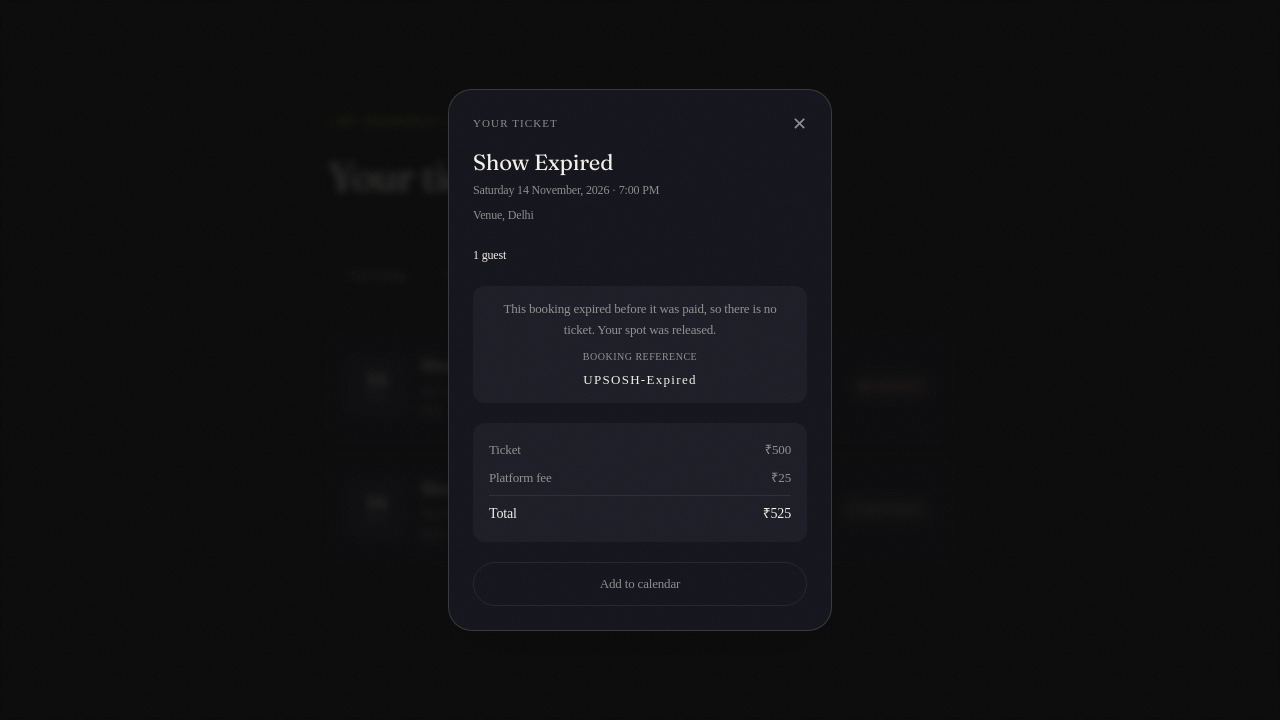
Test: /my-bookings › never shows a QR for an expired or refunded booking
Earlier steps of the test are not shown.
Expected: the text "1 guest" is shown, top-left (473, 248), bottom-right (506, 262)
Click the button named "Close ticket".
click(800, 124)  # box top-left (792, 114), bottom-right (807, 132)
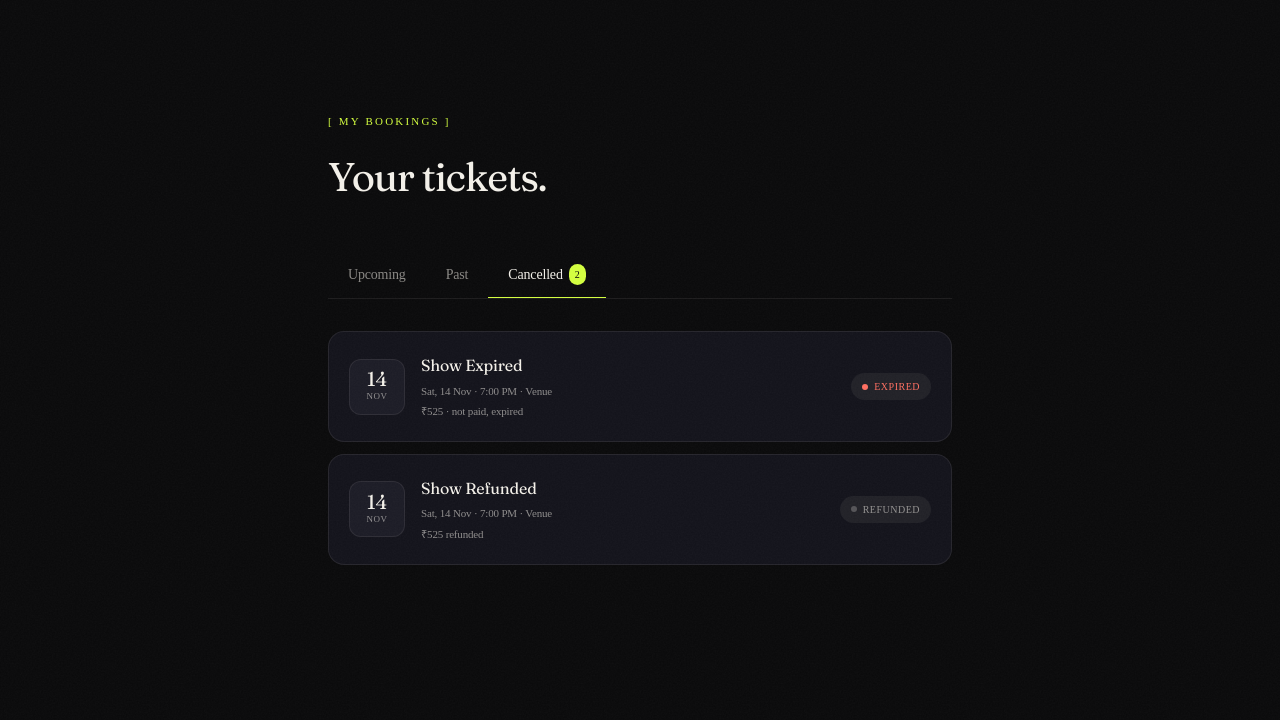
Expected: the text with test id "guest-count-line" is gone
Click the 5th button.
click(377, 509)  # box top-left (328, 454), bottom-right (952, 565)
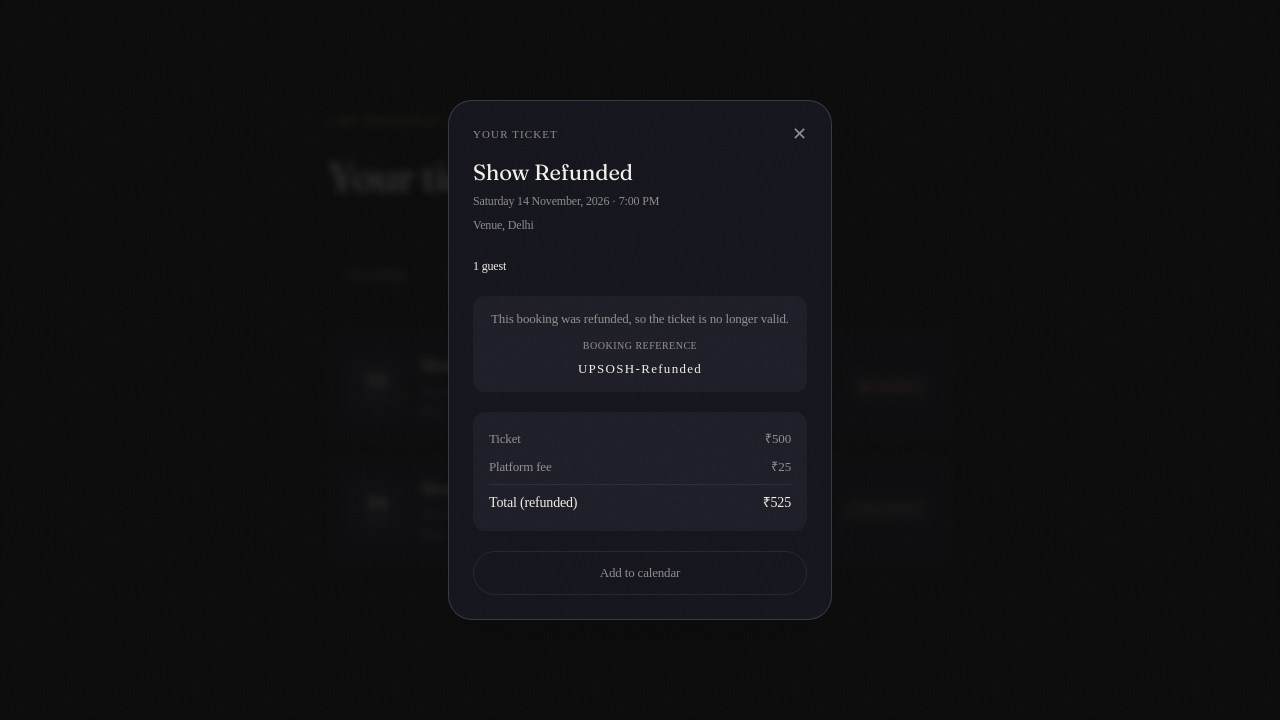
Expected: the text "1 guest" is shown, top-left (473, 259), bottom-right (506, 273)
Click the button named "Close ticket".
click(800, 134)  # box top-left (792, 125), bottom-right (807, 143)
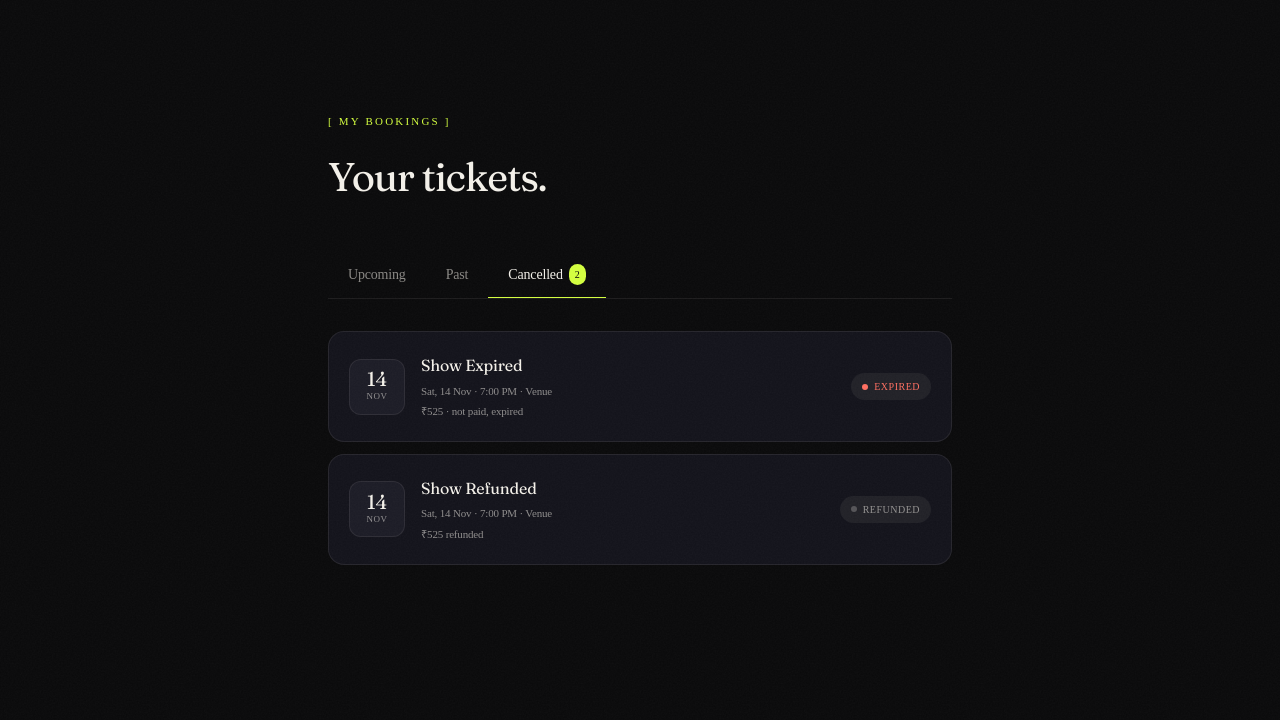
Expected: the text with test id "guest-count-line" is gone
